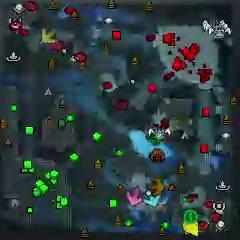Other: (184, 210, 198, 225)
p4: (181, 217, 199, 236)
x1: (126, 187, 144, 207)
x2: (40, 27, 58, 43)
x3: (142, 192, 161, 207)
x4: (145, 133, 160, 146)
x5: (146, 177, 164, 196)
